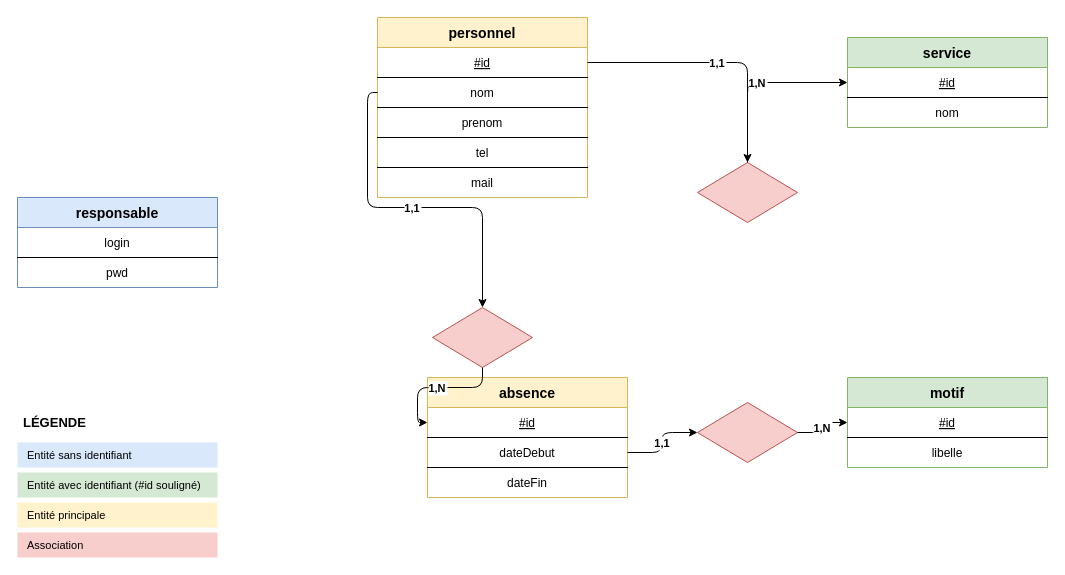
Image size: 1065x575. Some labels were removed from this diagram. Each missing label, with the centre of its shape:
"affecter" belongs at [747,192].
"avoir" belongs at [482,337].
"justifier" belongs at [747,432].
